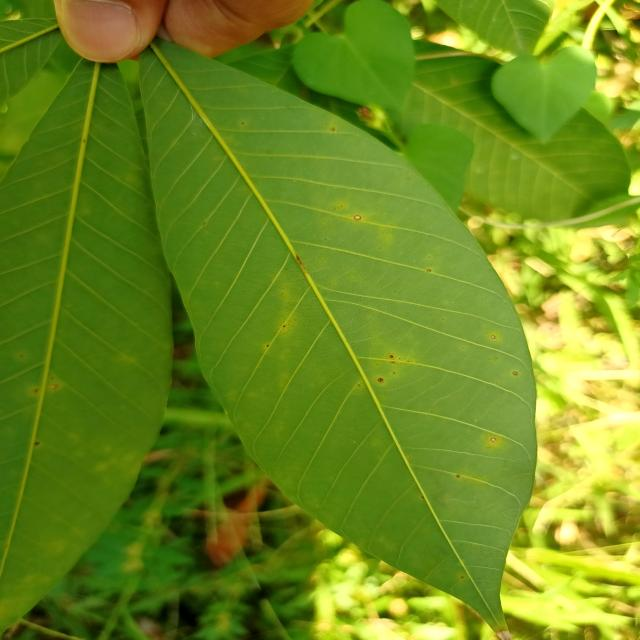Colletotrichum: (354, 215, 361, 220), (512, 372, 518, 376), (490, 438, 496, 442), (378, 378, 383, 382), (492, 335, 496, 339), (389, 355, 394, 358), (426, 270, 431, 272), (266, 344, 268, 347), (283, 326, 285, 328)
